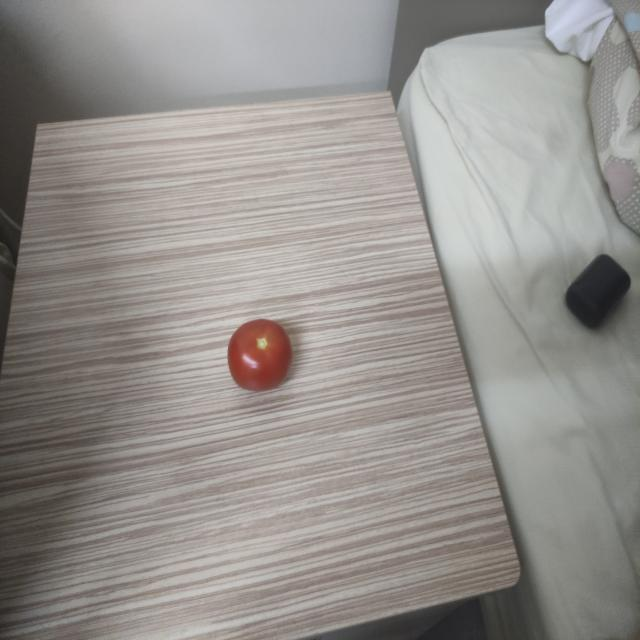kirmizi: (208, 302, 300, 411)
